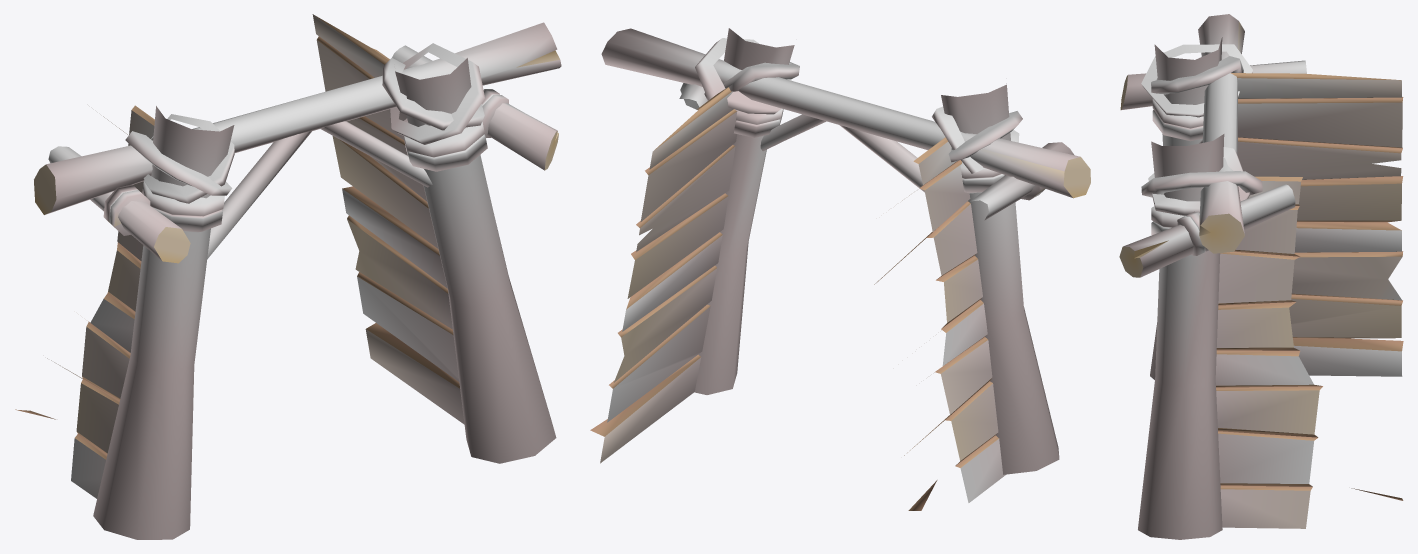
File: TownGateway.glb
3 renders of one model, left to right at view 1: azimuth 30°, elevation 25°; view 2: azimuth 150°, elevation 25°; view 3: azimuth 270°, elevation 25°, orthographic. The views are drawn at different scales.
Parts seen in each view (by area): view 1: TownGateway; view 2: TownGateway; view 3: TownGateway.
Boxes of the visible parts, x1=… form: TownGateway: x1=15, y1=14, x2=561, y2=539; TownGateway: x1=590, y1=28, x2=1090, y2=510; TownGateway: x1=1119, y1=14, x2=1403, y2=539.
Size of the model in its own units: 3.83 by 2.93 by 2.02.
